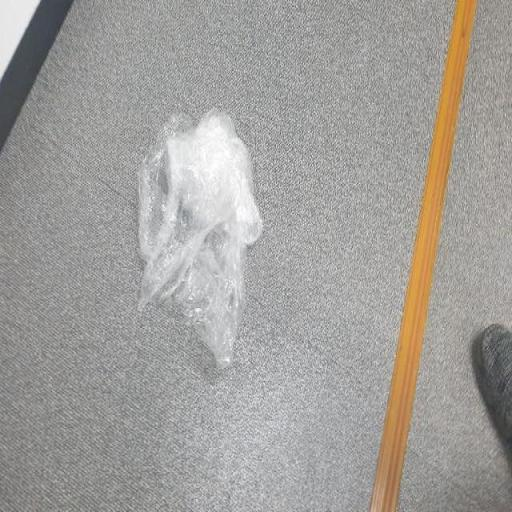plastic-bag: (134, 108, 264, 374)
